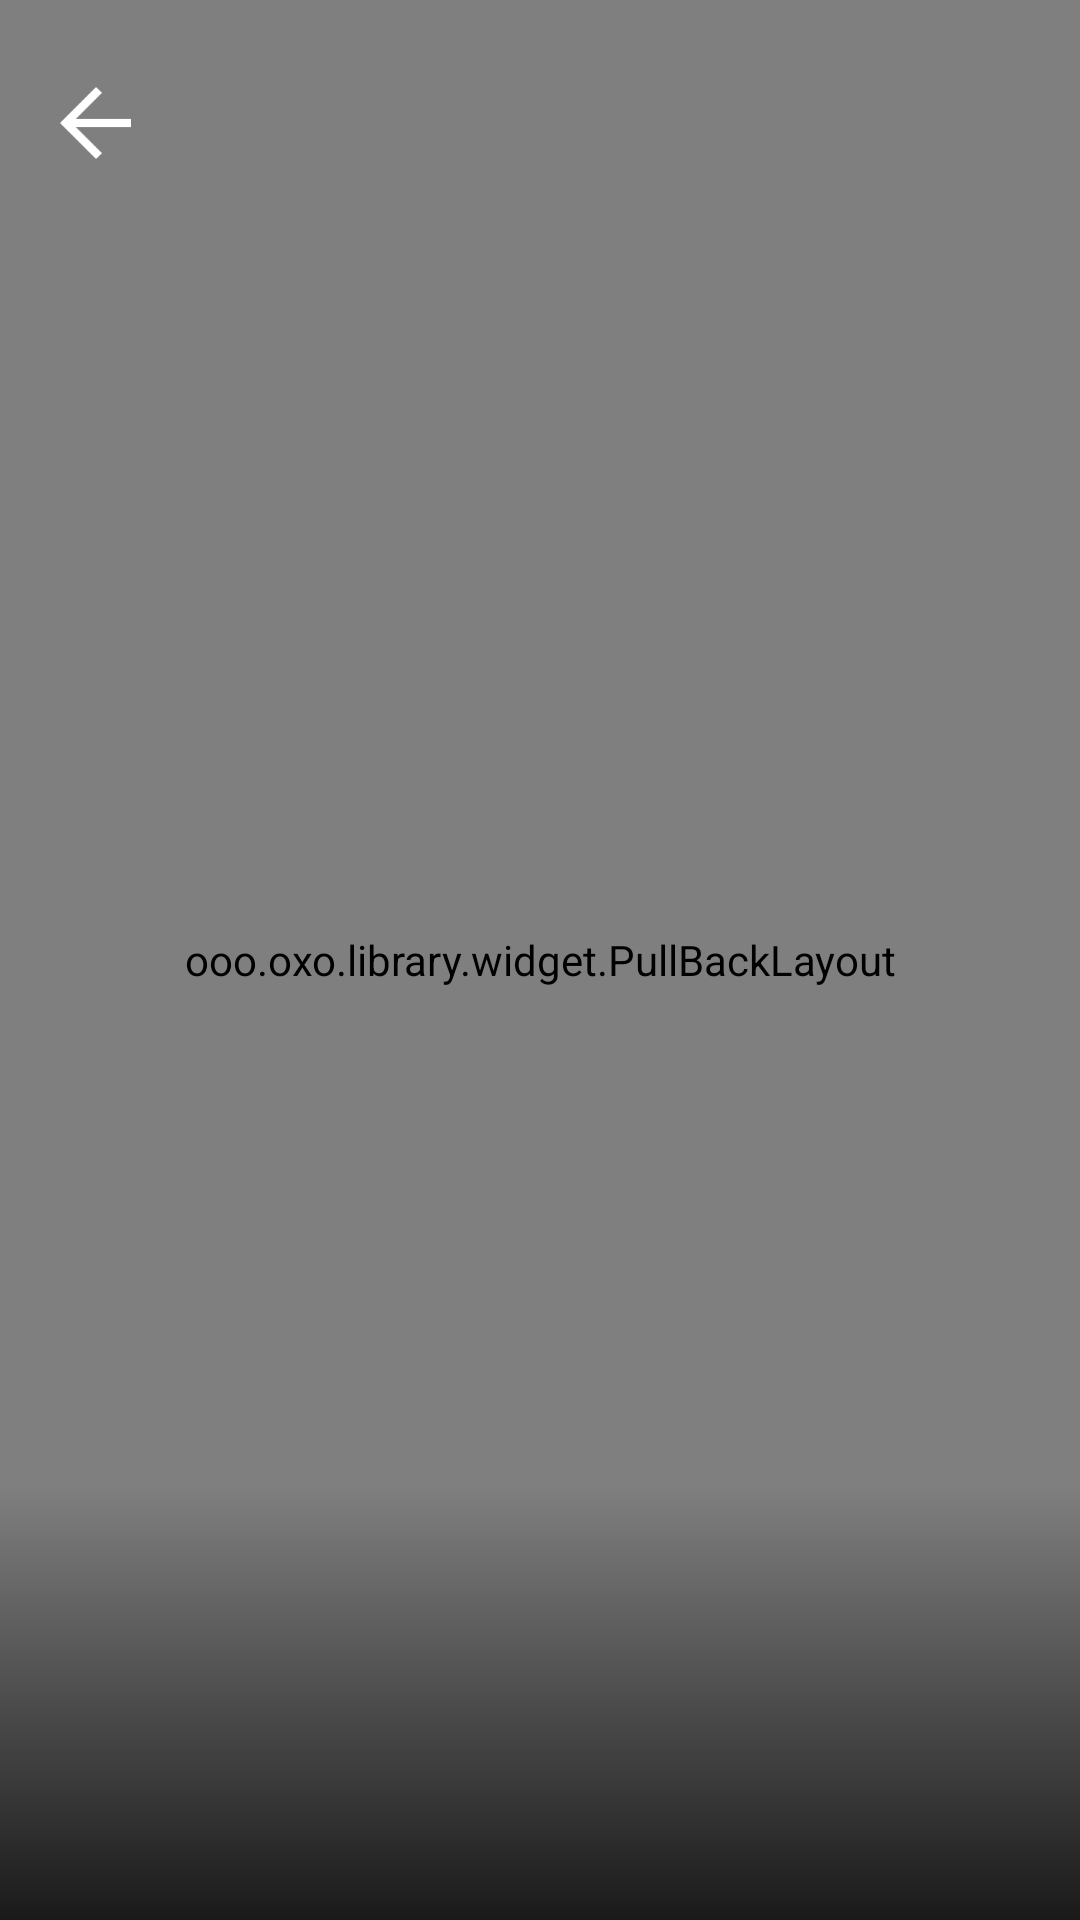

Icons on this 1080*1920 Android screen, each with the point to tap as point (x, y):
arrow back: point (95, 123)
